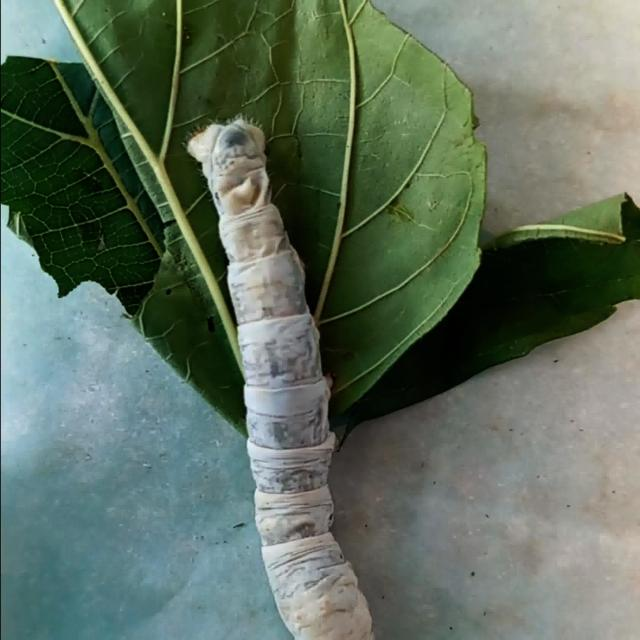Grasserie: (178, 84, 399, 640)
